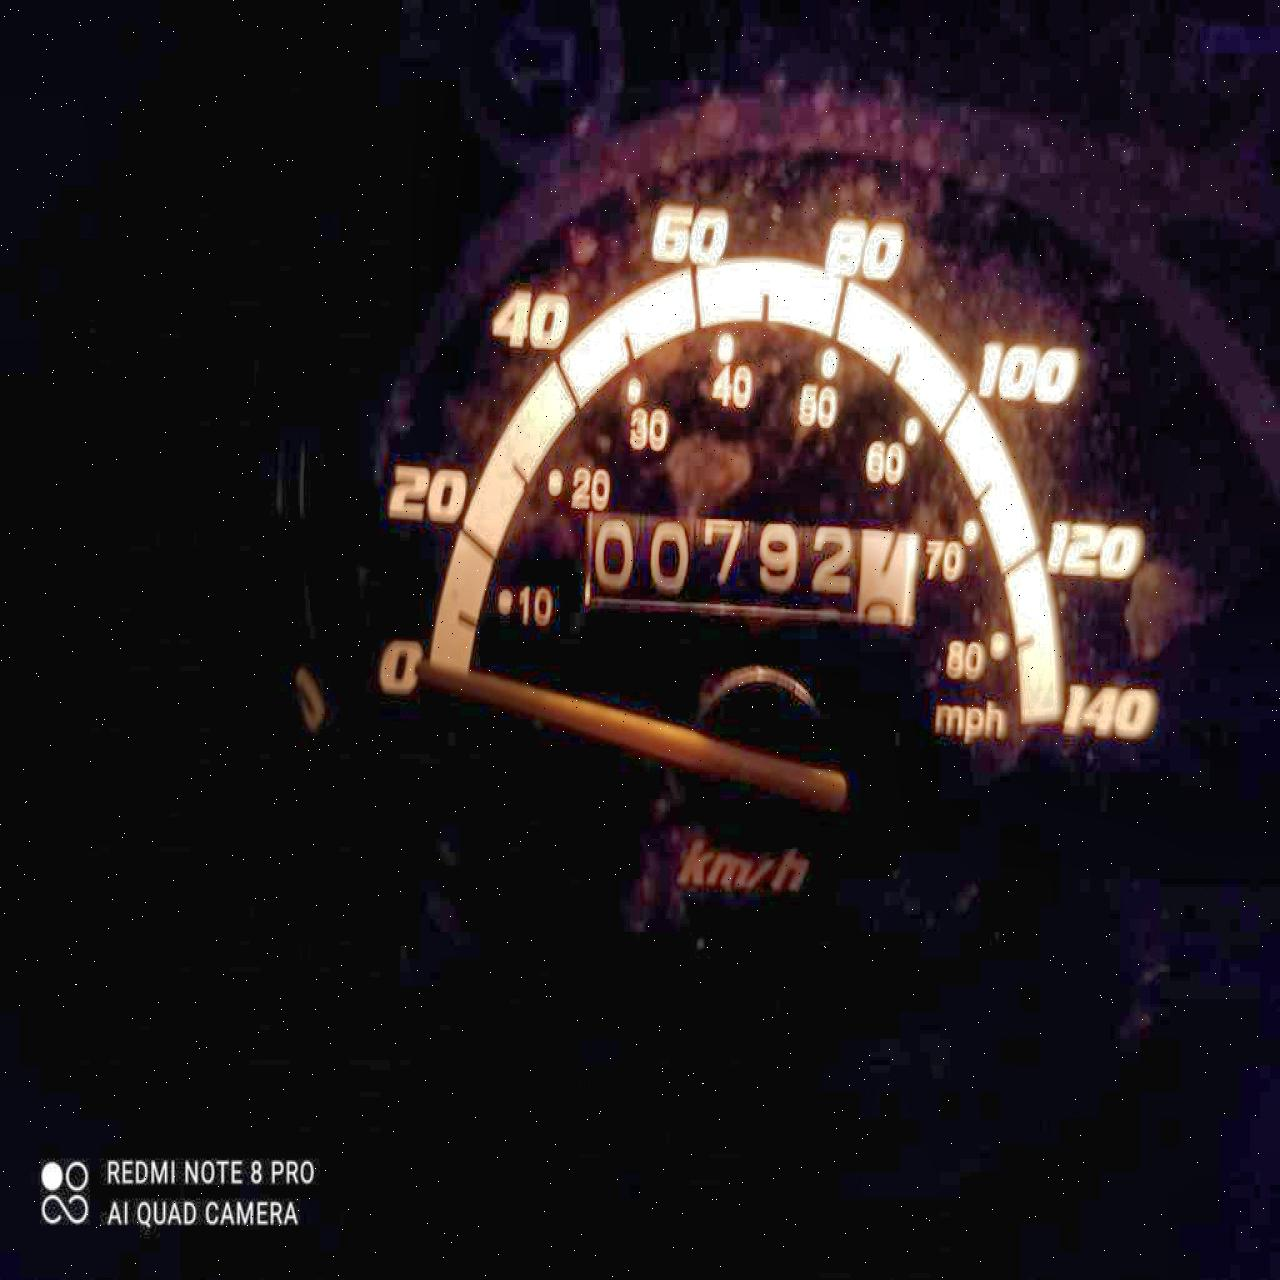0: (645, 516, 689, 587), (590, 518, 632, 590)
2: (808, 519, 855, 595)
7: (700, 513, 745, 586), (874, 516, 910, 583)
9: (757, 517, 797, 587)
odometer: (574, 504, 924, 629)
